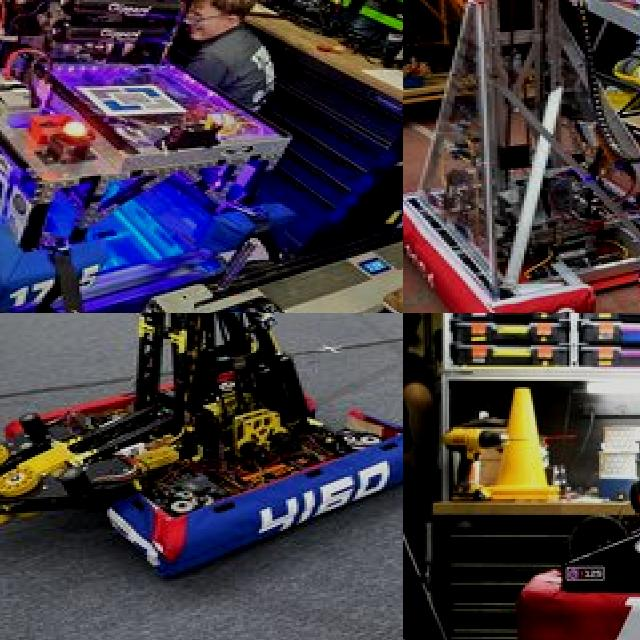FRC-Robots: (0, 313, 403, 593), (0, 0, 326, 313), (403, 0, 640, 313), (478, 313, 640, 640)
